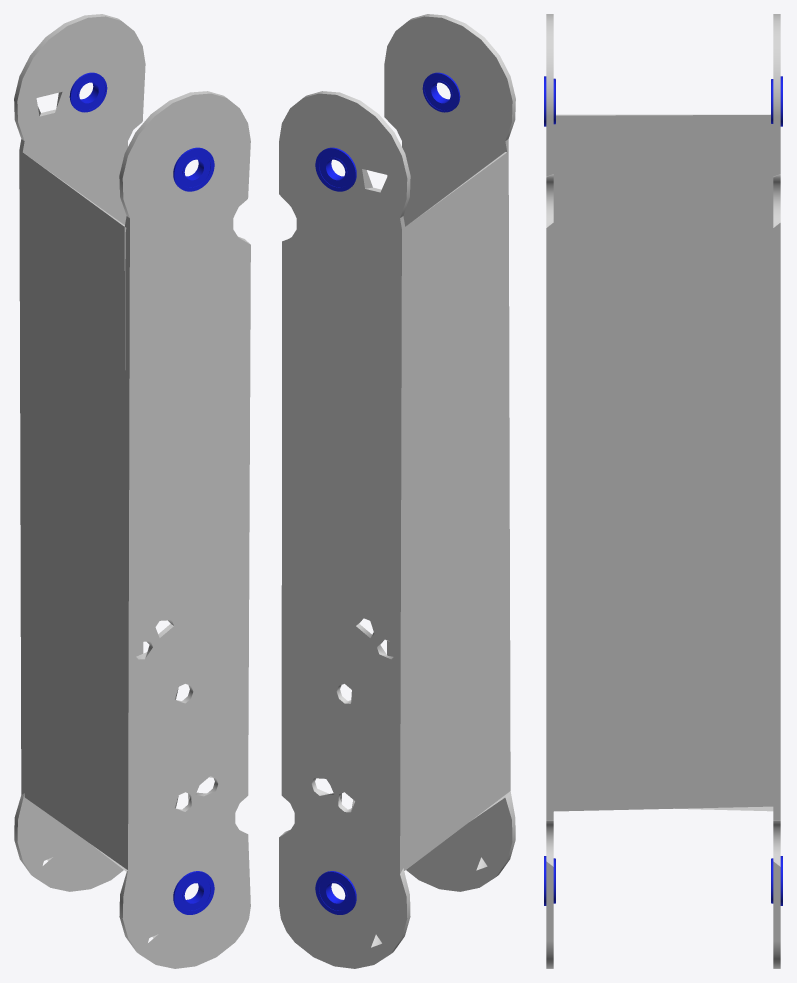
The model's file is lifter_bone.dae.
3 views of the same model, side by side, from view 1: azimuth 30°, elevation 25°; view 2: azimuth 150°, elevation 25°; view 3: azimuth 270°, elevation 25° (orthographic). The views are drawn at different scales.
Visible parts, largest first — view 1: サーフェス1, サーフェス1_ncl1_2, サーフェス1_ncl1_4, サーフェス1_ncl1_1; view 2: サーフェス1, サーフェス1_ncl1_1, サーフェス1_ncl1_3, サーフェス1_ncl1_2; view 3: サーフェス1.
Boxes of the visible parts, x1,y1,x2,y2 form: サーフェス1: (14, 14, 250, 968); サーフェス1_ncl1_2: (173, 147, 214, 191); サーフェス1_ncl1_4: (173, 871, 214, 914); サーフェス1_ncl1_1: (69, 72, 107, 112); サーフェス1: (279, 14, 515, 968); サーフェス1_ncl1_1: (315, 147, 356, 191); サーフェス1_ncl1_3: (315, 871, 356, 914); サーフェス1_ncl1_2: (422, 72, 460, 112); サーフェス1: (546, 14, 780, 968).
Size of the model in its own units: 0.067 by 0.1 by 0.434.
